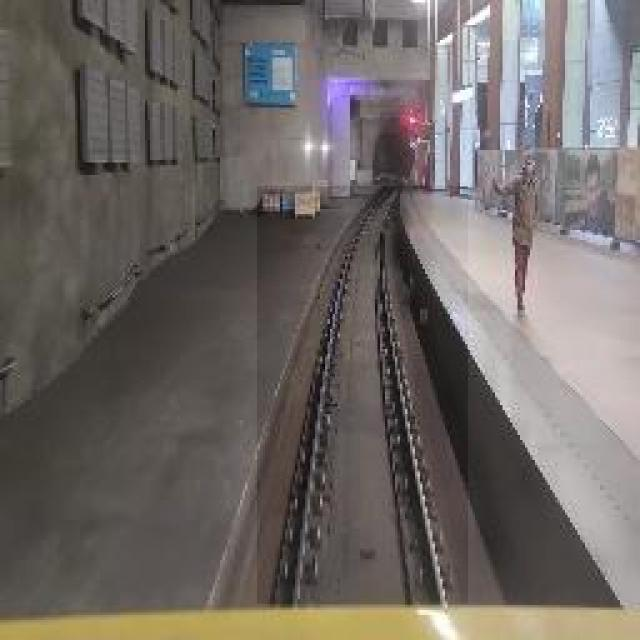rail: (258, 187, 469, 605)
